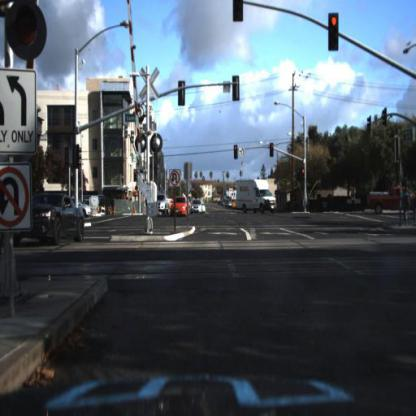biker: (398, 185, 410, 227)
car: (20, 195, 86, 252), (369, 183, 416, 215), (151, 193, 167, 214), (172, 198, 189, 215), (156, 194, 168, 215), (82, 200, 94, 219), (192, 201, 204, 215)
pedestrian: (401, 168, 413, 232), (345, 181, 358, 217), (350, 190, 360, 213), (411, 184, 416, 219)
trafficLight: (233, 1, 243, 25), (234, 141, 239, 162)
trafficLight-Red: (330, 11, 340, 49), (269, 141, 276, 157), (300, 161, 306, 179), (302, 165, 307, 177)
truck: (238, 180, 278, 217)
